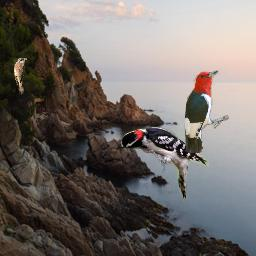Cuckoo: (14, 58, 27, 95)
Woodpecker: (116, 126, 210, 202), (184, 70, 229, 153)
